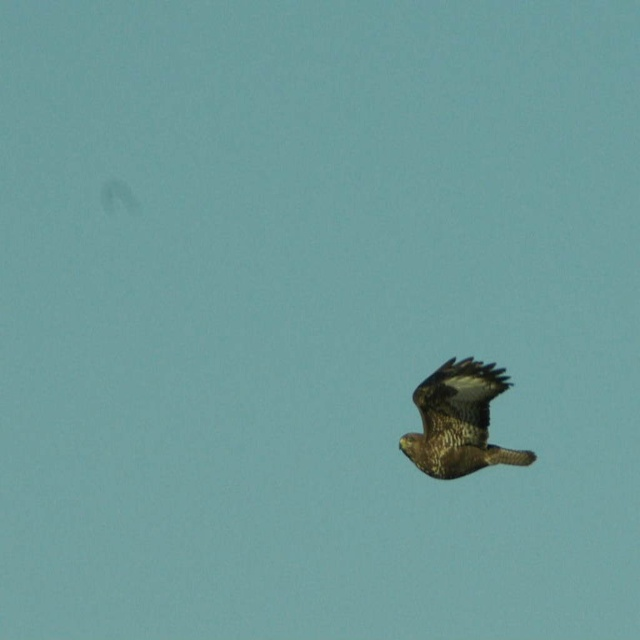Eagle: (396, 351, 539, 487)
